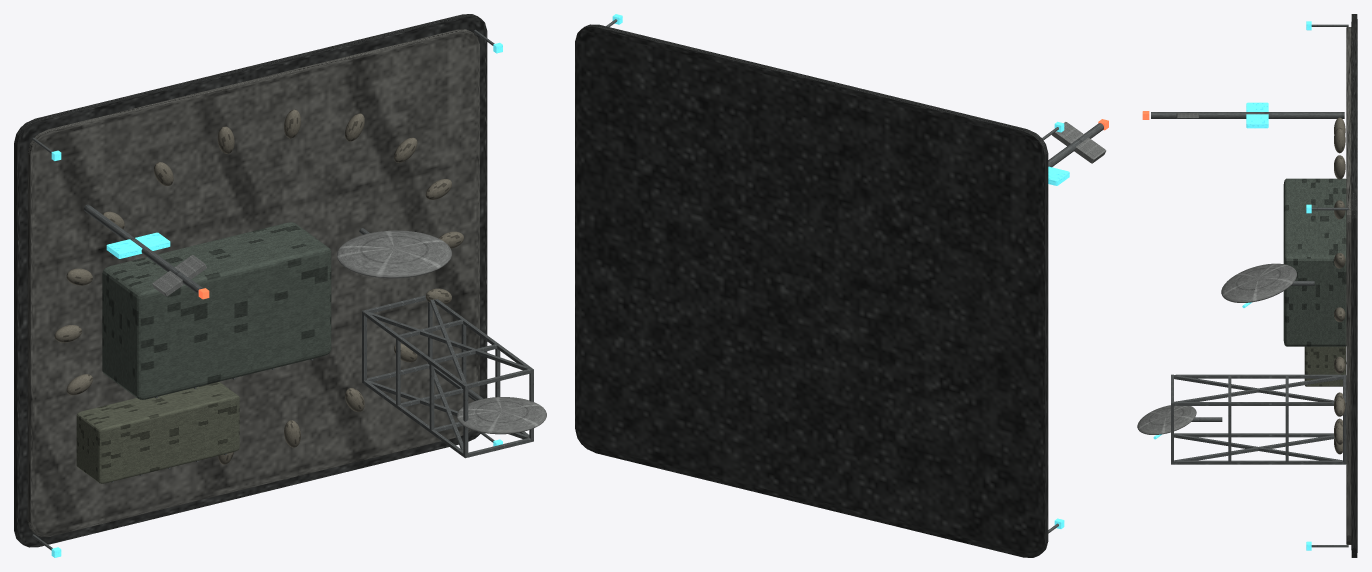
File: b-43-command-relay-lod0.glb
The picture shows the model from 3 angles, left to right: view 1: azimuth 30°, elevation 25°; view 2: azimuth 150°, elevation 25°; view 3: azimuth 270°, elevation 25°; orthographic projection. The views are drawn at different scales.
Visible parts, largest first — view 1: foundation_inner_pad, command_container_container, foundation, generator_truck_container, relay_dish_fixed_dish, relay_dish_scissor_dish, relay_whip_main, relay_whip_array_1, relay_whip_array_0, scissor_mast_brace_a_1.05, scissor_mast_column_w_n, scissor_mast_column_w_s; view 2: foundation, relay_whip_array_1; view 3: command_container_container, foundation, foundation_inner_pad, relay_dish_fixed_dish, generator_truck_container, relay_dish_scissor_dish, relay_whip_main, scissor_mast_column_e_s, scissor_mast_column_w_n, scissor_mast_brace_b_-1.05, scissor_mast_column_w_s, scissor_mast_brace_a_1.05 (+4 smaller).
Boxes of the visible parts, bbox=[...] form: foundation_inner_pad: bbox=[27, 29, 479, 536]; command_container_container: bbox=[102, 222, 331, 399]; foundation: bbox=[14, 14, 487, 547]; generator_truck_container: bbox=[76, 381, 239, 483]; relay_dish_fixed_dish: bbox=[337, 230, 451, 278]; relay_dish_scissor_dish: bbox=[457, 397, 546, 434]; relay_whip_main: bbox=[84, 204, 203, 294]; relay_whip_array_1: bbox=[152, 255, 206, 296]; relay_whip_array_0: bbox=[106, 232, 170, 258]; scissor_mast_brace_a_1.05: bbox=[366, 311, 529, 370]; scissor_mast_column_w_n: bbox=[364, 311, 465, 387]; scissor_mast_column_w_s: bbox=[364, 380, 463, 456]; foundation: bbox=[575, 24, 1048, 557]; relay_whip_array_1: bbox=[1052, 122, 1106, 163]; command_container_container: bbox=[1283, 178, 1346, 346]; foundation: bbox=[1351, 14, 1357, 557]; foundation_inner_pad: bbox=[1346, 27, 1351, 544]; relay_dish_fixed_dish: bbox=[1221, 263, 1296, 302]; generator_truck_container: bbox=[1304, 346, 1345, 386]; relay_dish_scissor_dish: bbox=[1137, 405, 1196, 434]; relay_whip_main: bbox=[1151, 112, 1344, 118]; scissor_mast_column_e_s: bbox=[1174, 460, 1343, 464]; scissor_mast_column_w_n: bbox=[1174, 374, 1343, 378]; scissor_mast_brace_b_-1.05: bbox=[1174, 434, 1342, 460]; scissor_mast_column_w_s: bbox=[1174, 433, 1333, 437]; scissor_mast_brace_a_1.05: bbox=[1174, 375, 1342, 402].
Size of what is drawn, in the model's own units: 15 by 13 by 7.16.
9 materials, 9 textured.
